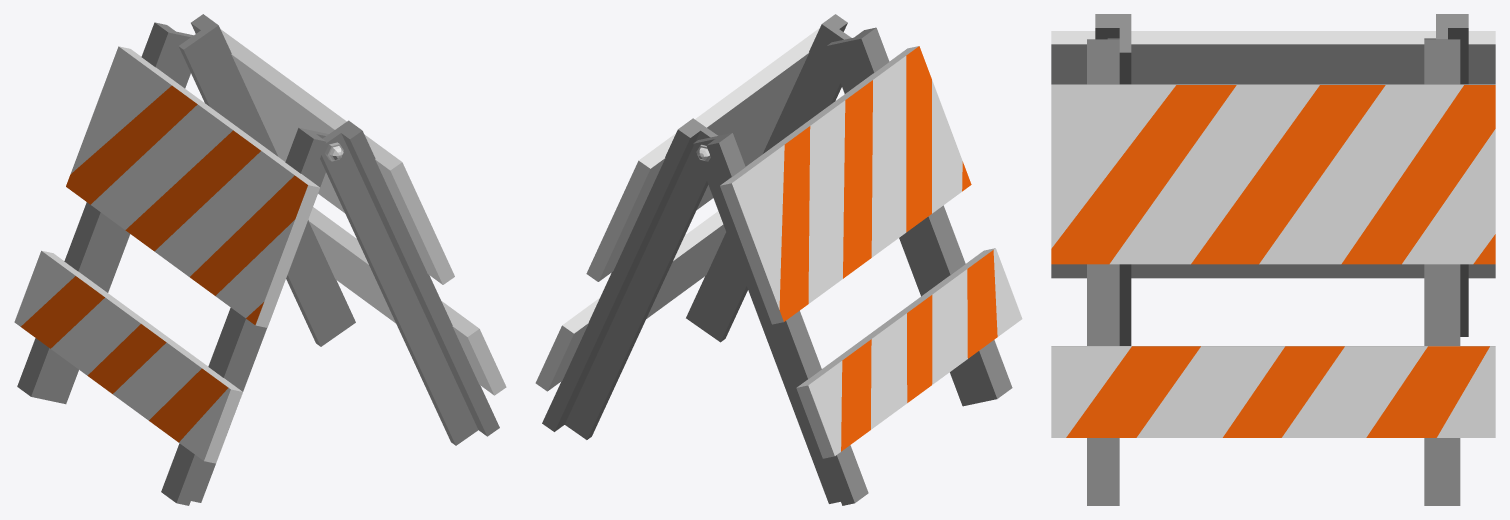
Rendered from SeñalPequeña.fbx.
The picture shows the model from 3 angles, left to right: view 1: azimuth 30°, elevation 25°; view 2: azimuth 150°, elevation 25°; view 3: azimuth 270°, elevation 25°; orthographic projection. The views are drawn at different scales.
Visible parts, largest first — view 1: Sign-03; view 2: Sign-03; view 3: Sign-03.
Part boxes in pixels (<box>): Sign-03: <box>14,14,506,505</box>; Sign-03: <box>535,14,1022,505</box>; Sign-03: <box>1051,14,1495,505</box>.
Size of the model in its own units: 76.66 by 79.39 by 78.68.
Materials: 1 (1 with a texture image).
